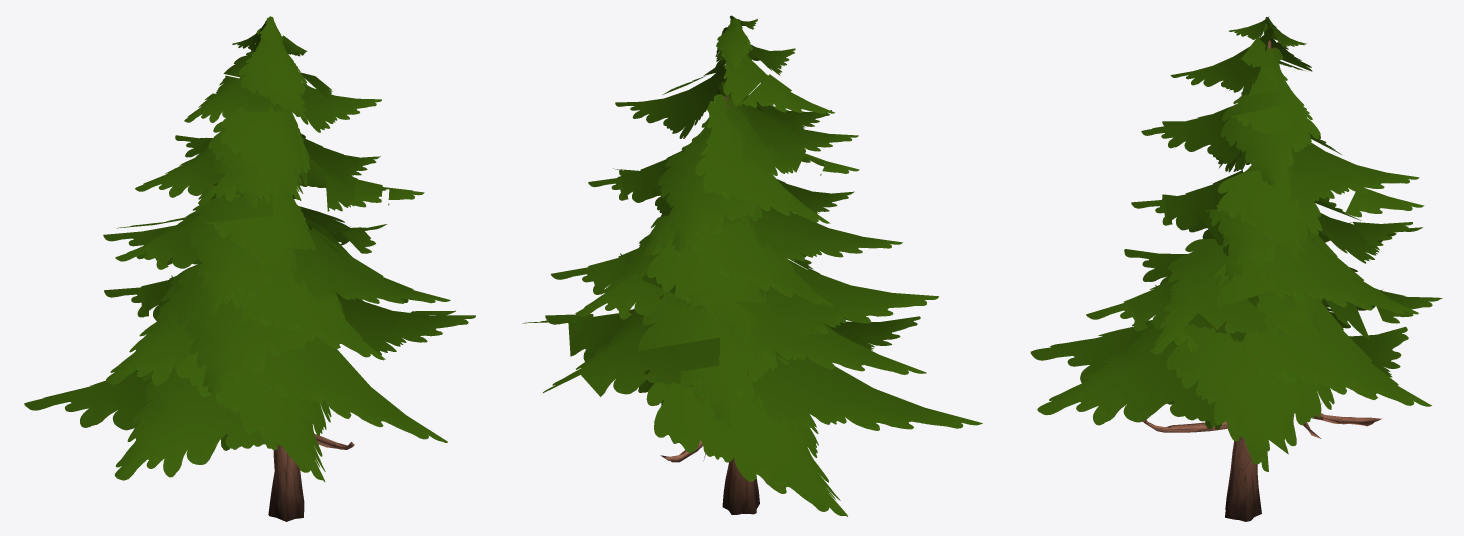
Rendered from Pine_2.glb.
The picture shows the model from 3 angles, left to right: view 1: azimuth 30°, elevation 25°; view 2: azimuth 150°, elevation 25°; view 3: azimuth 270°, elevation 25°; orthographic projection. The views are drawn at different scales.
Visible parts, largest first — view 1: Pine_2; view 2: Pine_2; view 3: Pine_2.
Part boxes in pixels (box(x1,y1,x2,y2)): Pine_2: box(24, 16, 475, 521); Pine_2: box(522, 15, 982, 516); Pine_2: box(1030, 16, 1442, 521).
Size of the model in its own units: 6.65 by 7.41 by 5.79.
2 materials, 2 textured.
